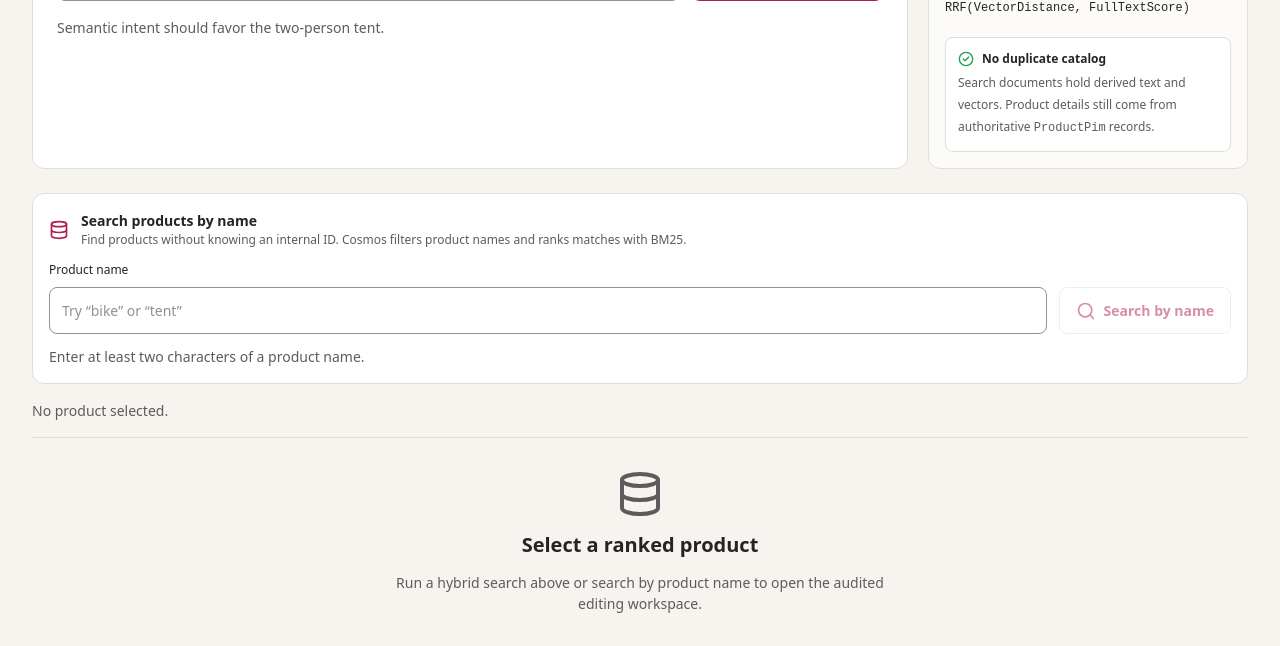
Scenario: App › shows a safe read failure without claiming a connection succeeded
(page scrolled)
Type "Test product" into the field labelled "Product name".
click(548, 310); type("Test product")  # box [49,287,1047,334]
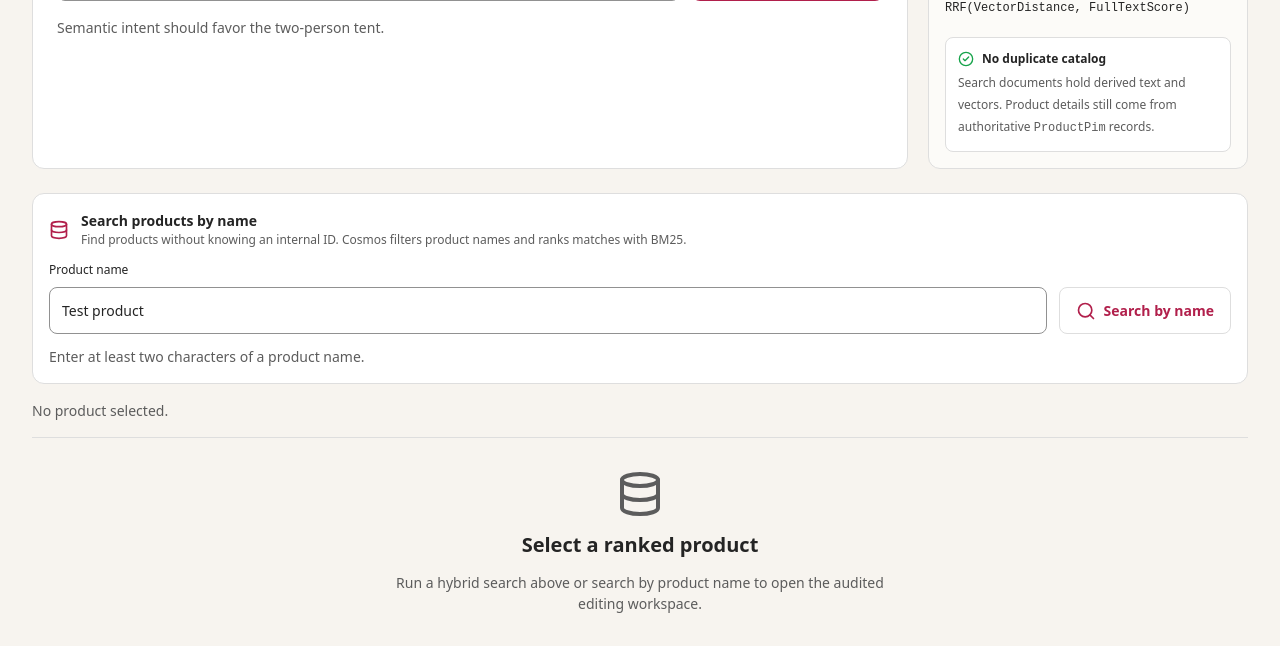
Submit the form "Product name", box [49,261,1231,334]
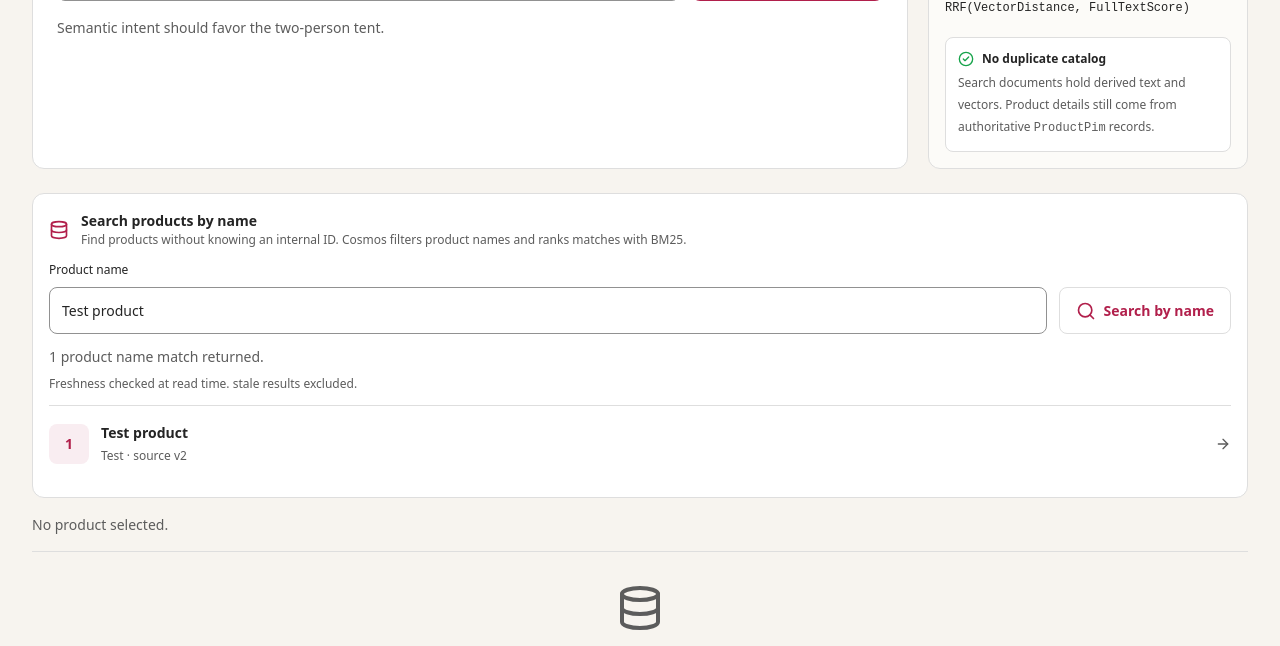
Click the button "1 Test product Test · source v2".
click(69, 444)  # box [49,406,1231,481]
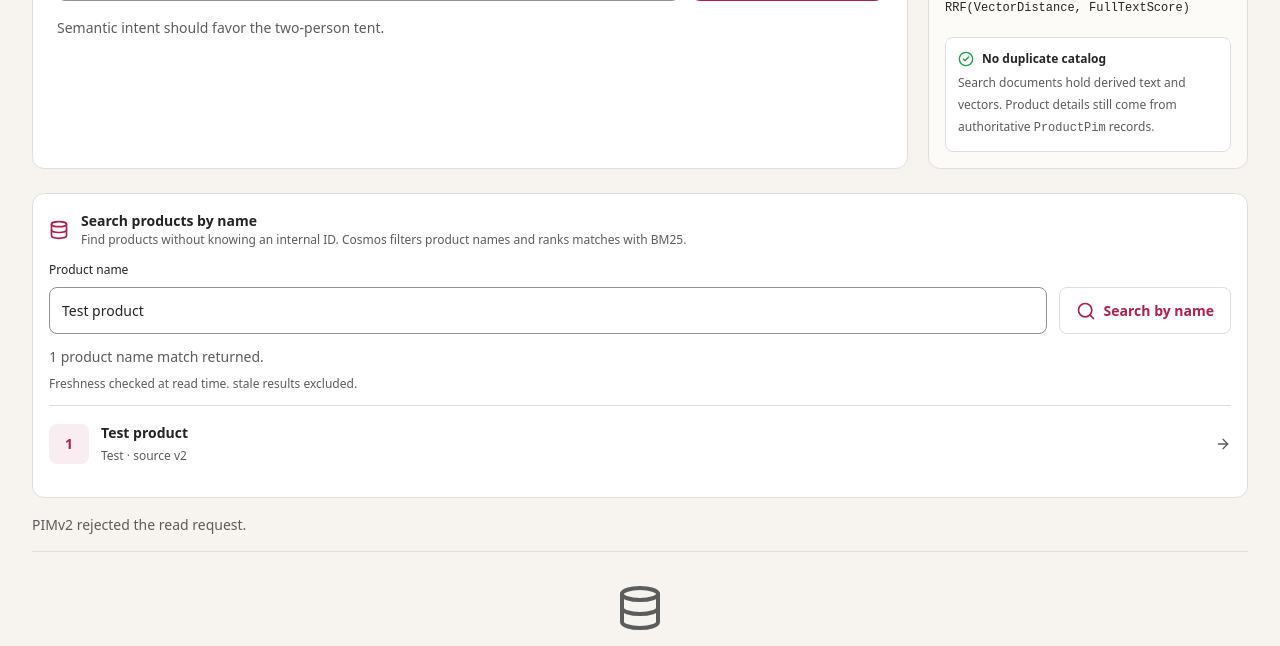
Expected: the text "PIMv2 rejected the read request." is shown, [32,515,246,534]
